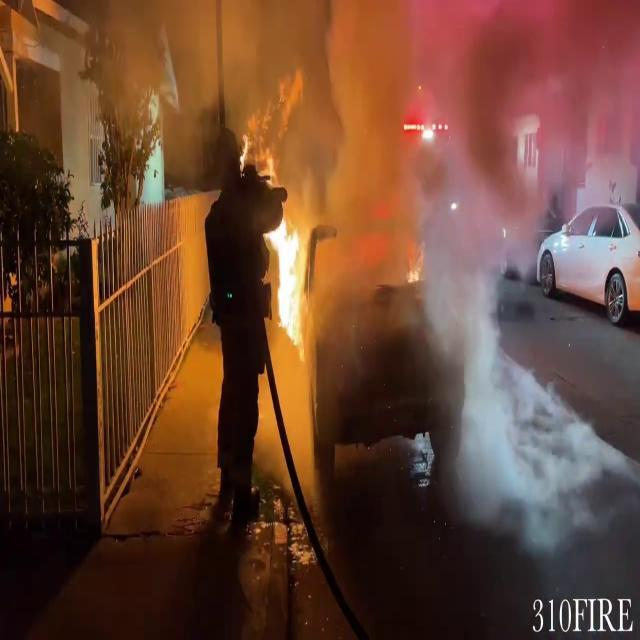Fire: (268, 201, 310, 357)
Smoke: (292, 3, 564, 558), (295, 0, 640, 253)
